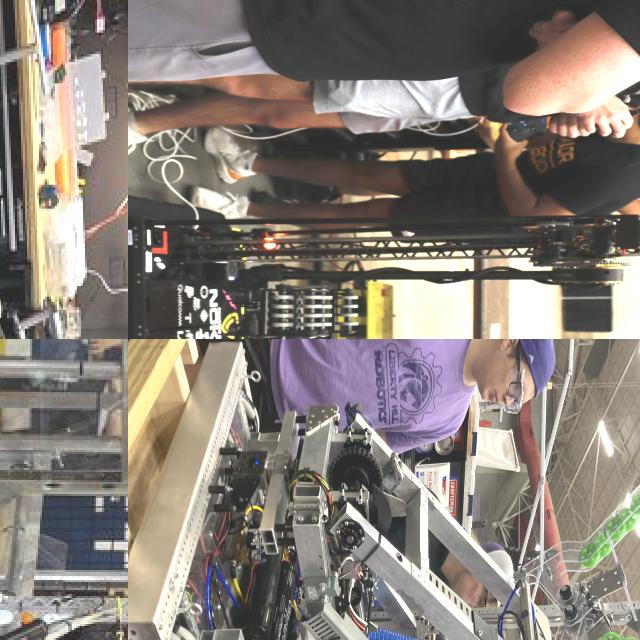FRC-Robots: (128, 339, 640, 640), (128, 152, 640, 339), (0, 51, 128, 339), (0, 353, 128, 640)
